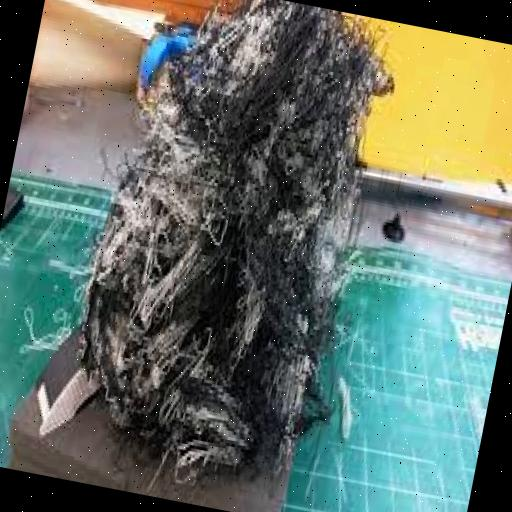spaghetti: (58, 0, 408, 502)
